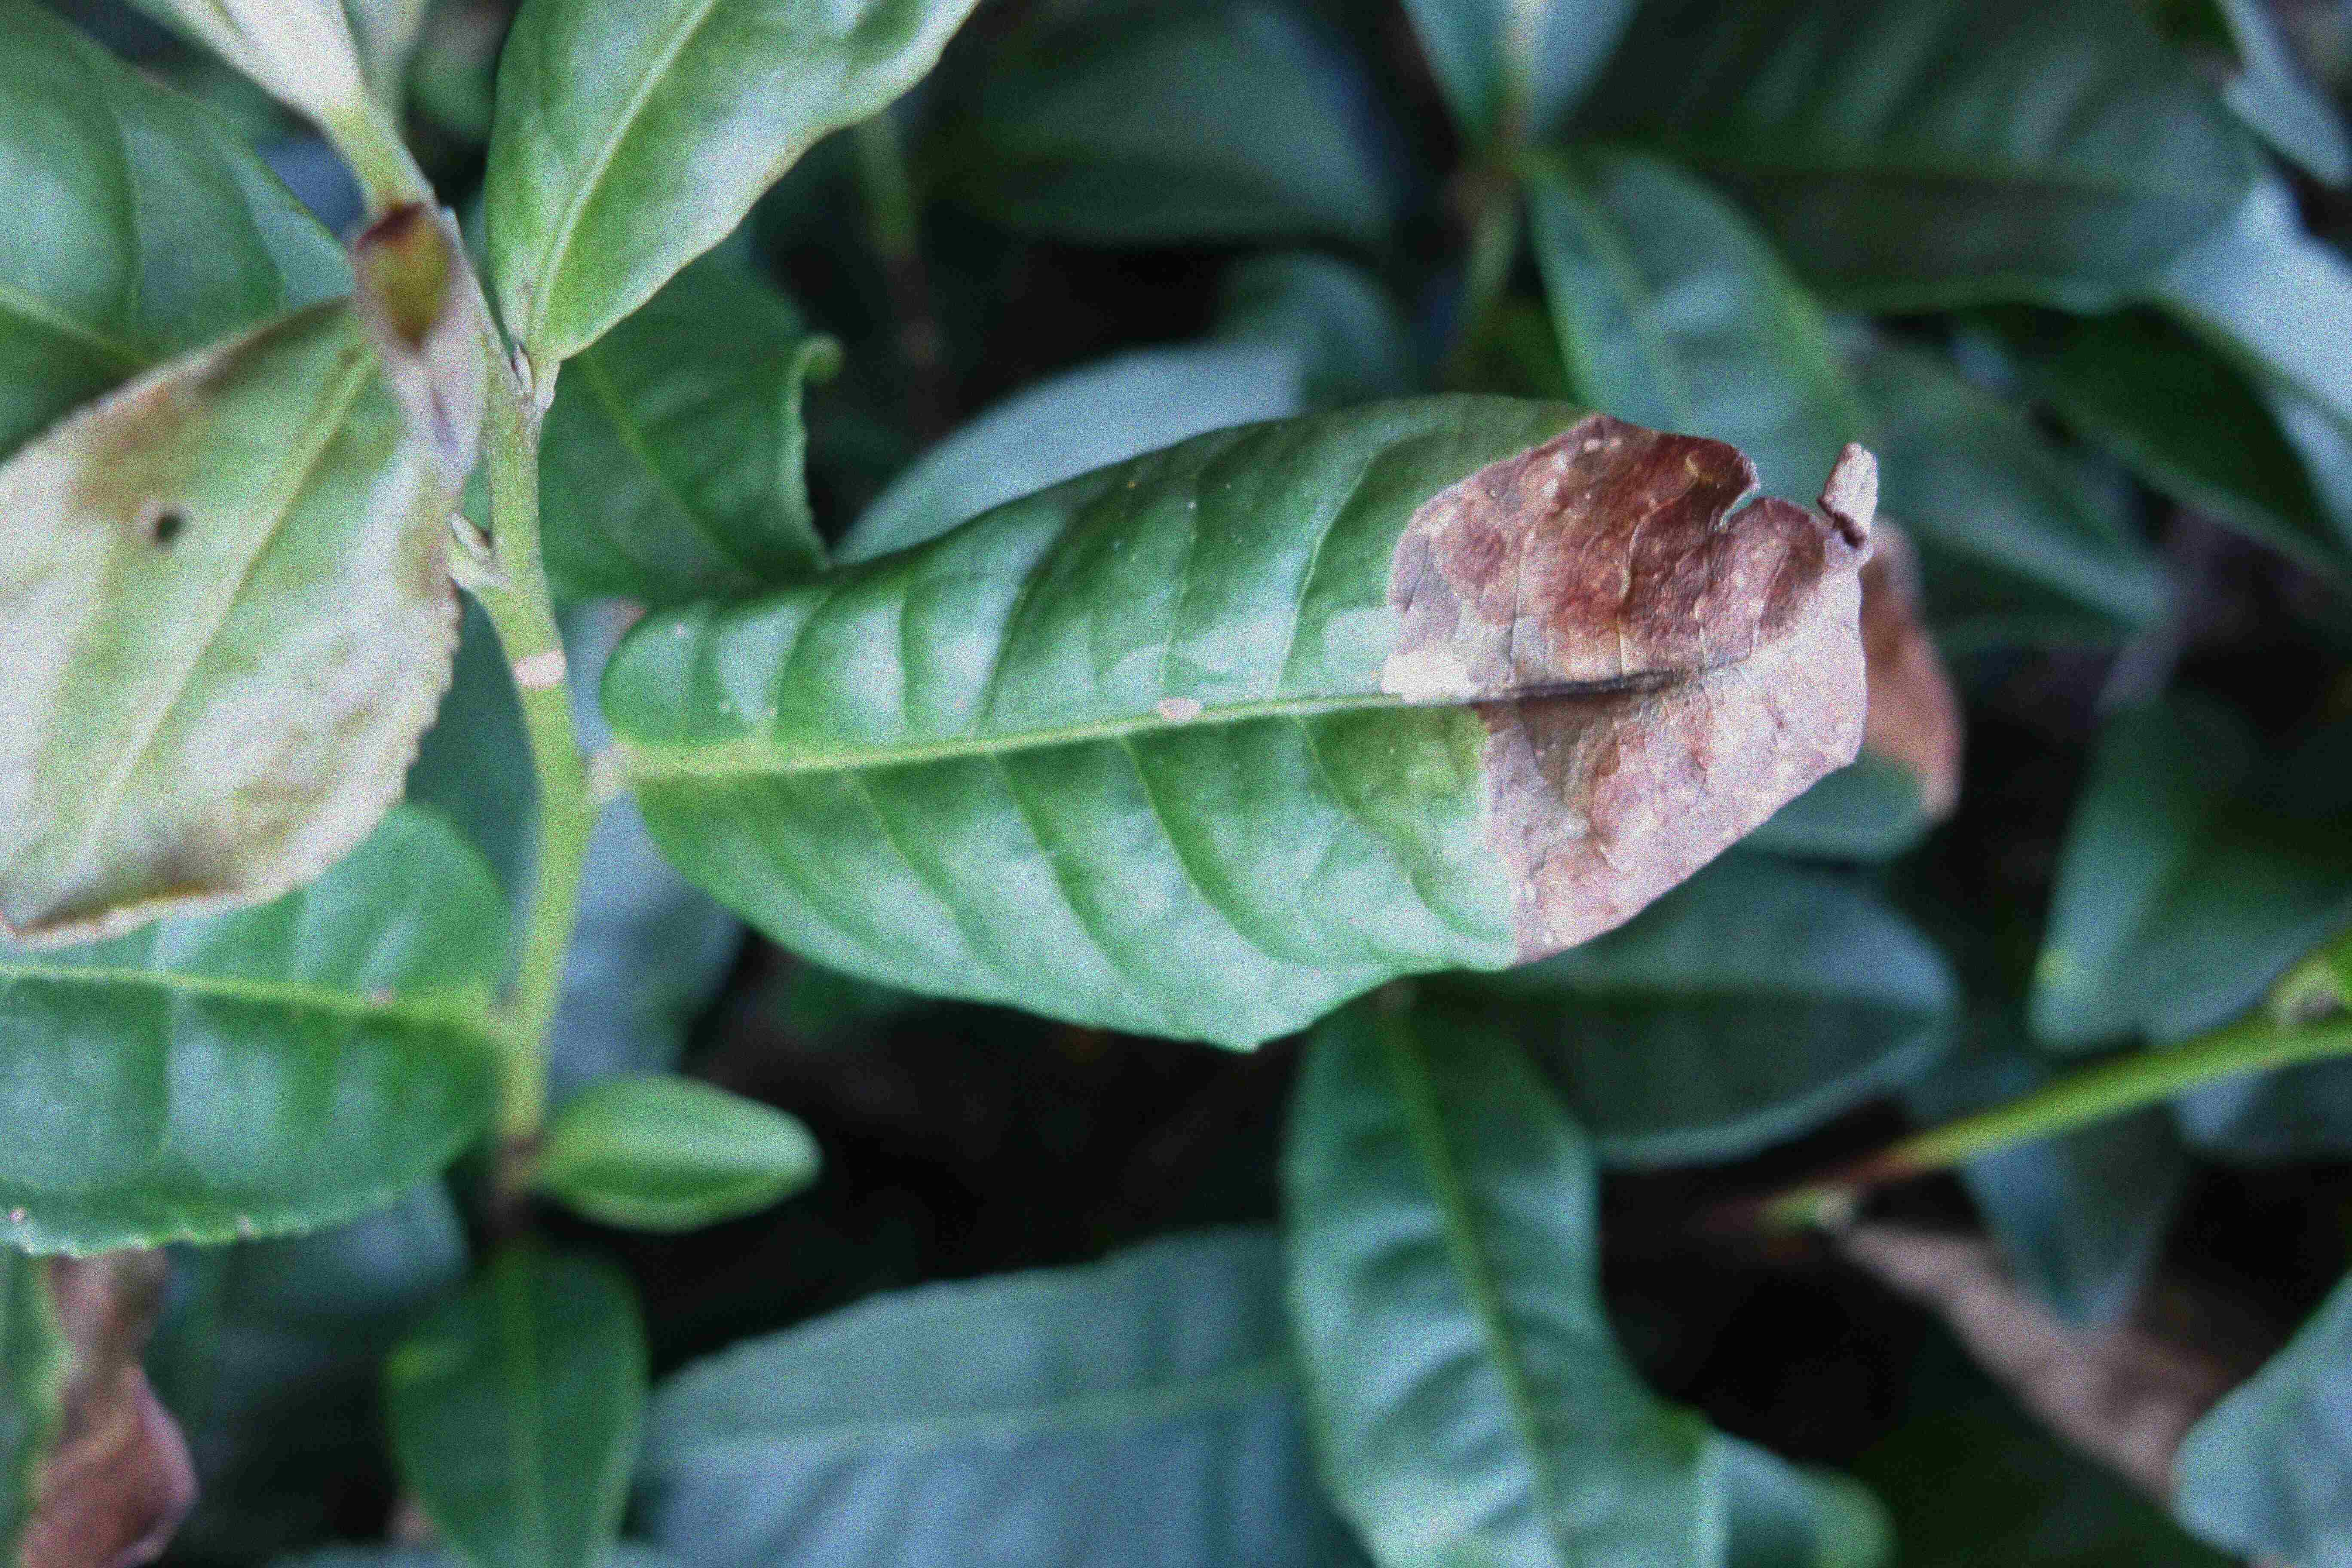healthy: (490, 3, 997, 360)
tanju_high: (595, 394, 1879, 1053)
tanju_low: (0, 296, 464, 945)
